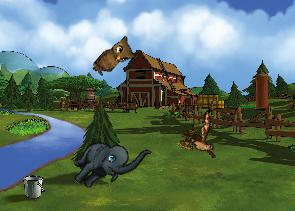eagle: (177, 109, 229, 166)
elephant: (65, 118, 152, 207)
owl: (90, 32, 141, 85)
